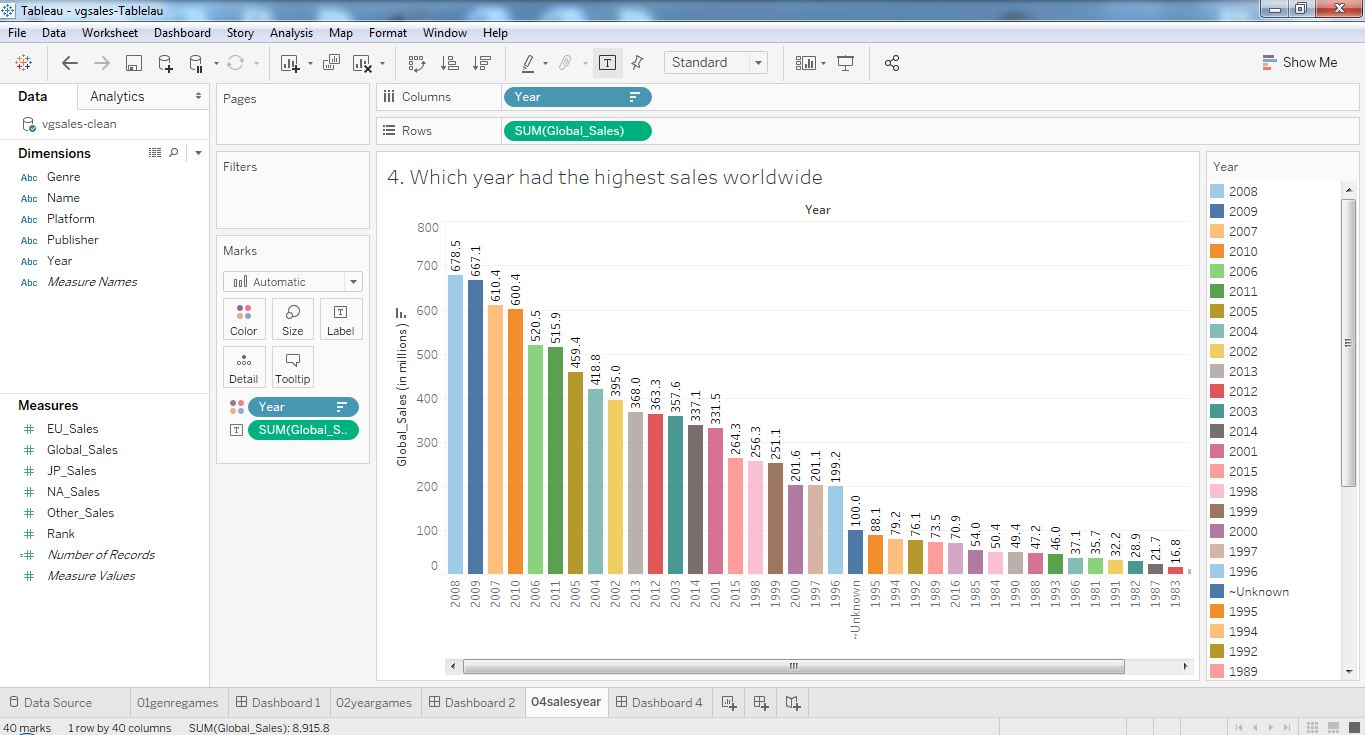

The dashboard page shown, as its layout file describes it:
{"tool":"tableau","page":{"name":"Dashboard 4","canvas":[1000,1000],"units":"permille","ordinal":3},"visuals":[{"type":"worksheet","title":"04salesyear","mark":"Automatic","rows":["F11"],"cols":["F4"],"box":[6.9,13.3,986.1,973.5]}]}

Visuals, with their boxes on the dashboard's canvas, which has no fixed pixel size, in thousandths of its width and height (x1, y1, x2, y2). These are canvas units, not pixel positions in the 1365x735 screenshot, which may show the page scaled, cropped or inside an application window:
"04salesyear" worksheet: 7,13,993,987
